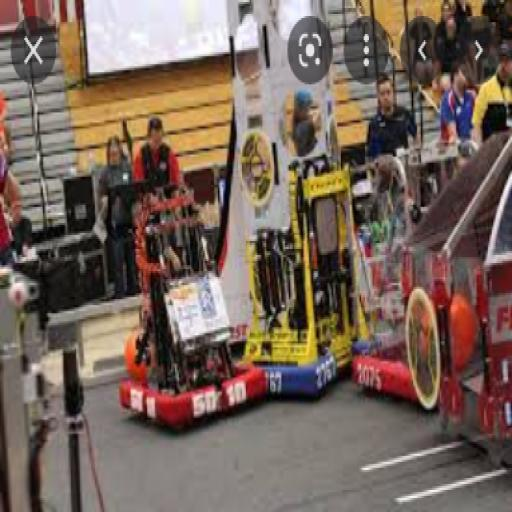robot: (116, 178, 268, 424), (2, 341, 100, 512), (242, 223, 337, 395), (354, 249, 441, 406), (445, 239, 512, 434)
